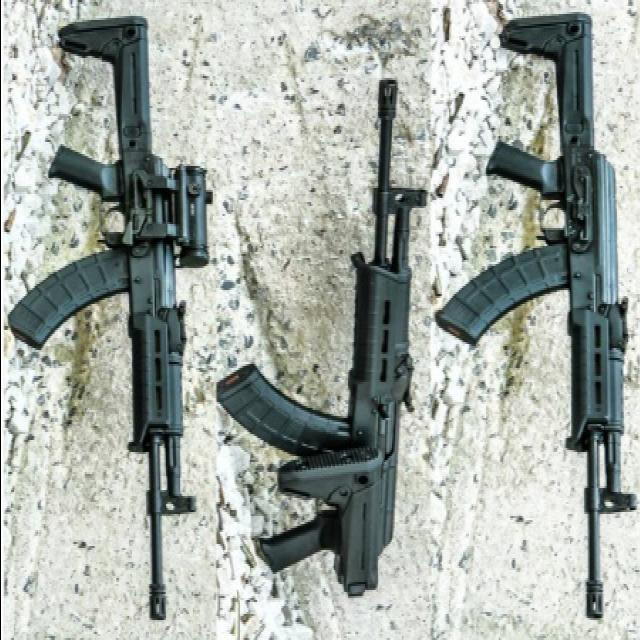rifle: (11, 17, 217, 627), (435, 15, 640, 621), (217, 77, 431, 615)
